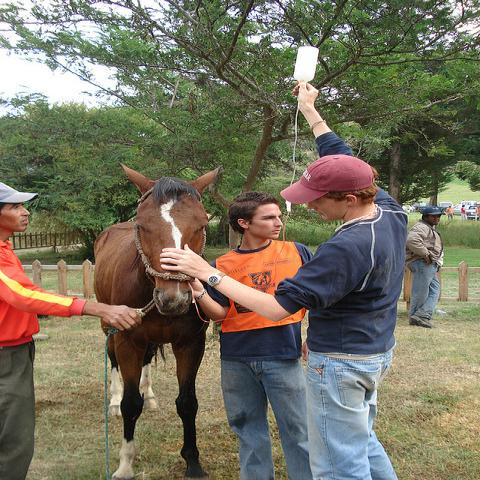car: (452, 202, 476, 215), (412, 201, 430, 212), (466, 205, 478, 218), (437, 201, 454, 206)
